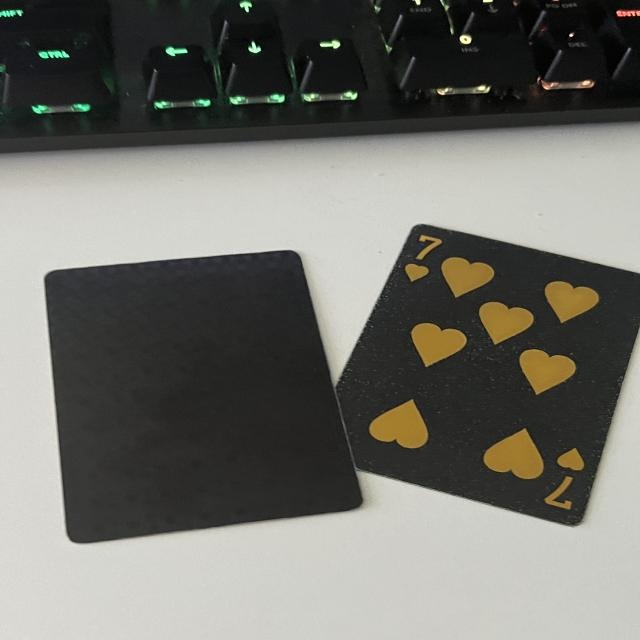7H: (538, 441, 596, 519), (394, 233, 446, 288)
BACK: (28, 245, 371, 551)
